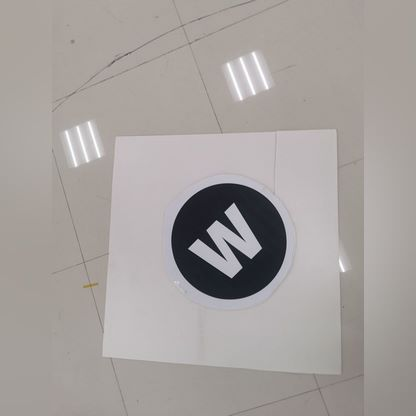W: (188, 185, 273, 287)
